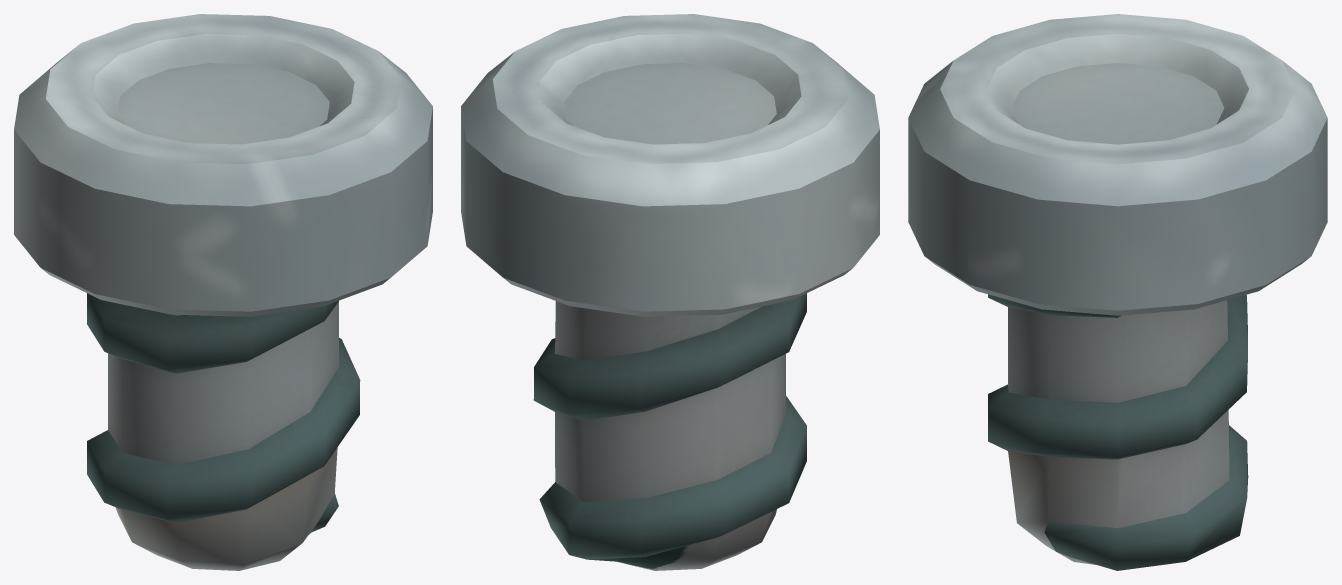
The model's file is Debris_VissePlate.FBX.
The picture shows the model from 3 angles, left to right: view 1: azimuth 30°, elevation 25°; view 2: azimuth 150°, elevation 25°; view 3: azimuth 270°, elevation 25°; orthographic projection.
Parts seen in each view (by area): view 1: VissePlate; view 2: VissePlate; view 3: VissePlate.
Part boxes in pixels (bbox=[...]): VissePlate: bbox=[14, 14, 432, 570]; VissePlate: bbox=[461, 14, 879, 570]; VissePlate: bbox=[908, 14, 1327, 570].
Bounding box in the file's own units: 0.4 × 0.4704 × 0.4.
